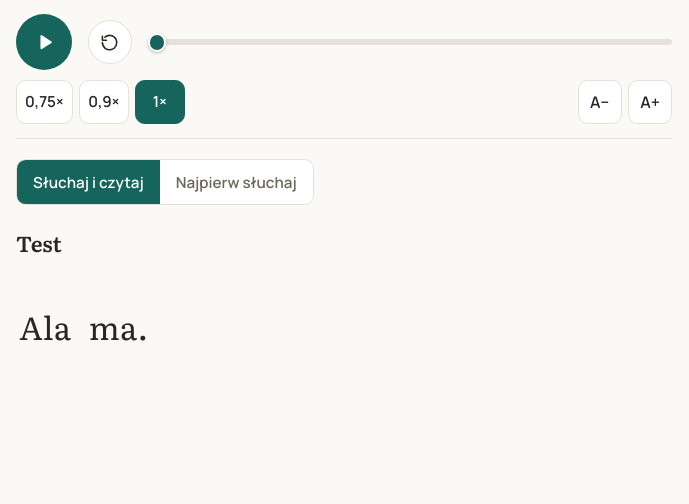
Test: Player › re-covers the text when switching back to listen-first
The width and height of the screenshot is (689, 504).
What coordinates should you click on to do the following:
click the button "Najpierw słuchaj"
I would click on:
 (236, 182)
Its box is x1=160 y1=160 x2=313 y2=204.
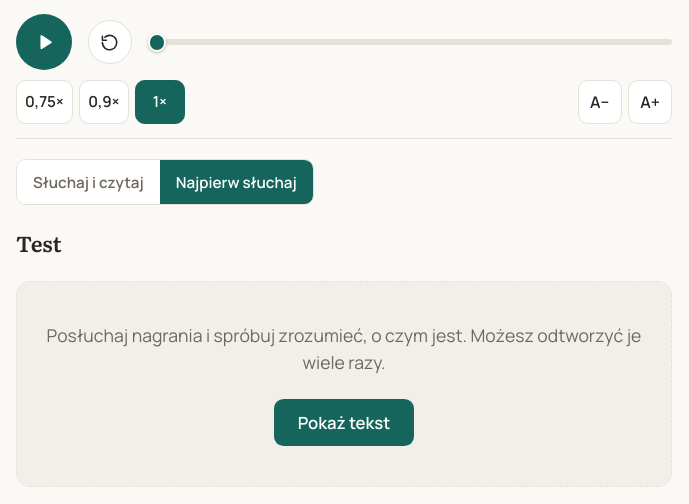
What coordinates should you click on to do the following:
click the button "Pokaż tekst"
I would click on:
 (344, 423)
Its box is x1=274 y1=399 x2=414 y2=446.
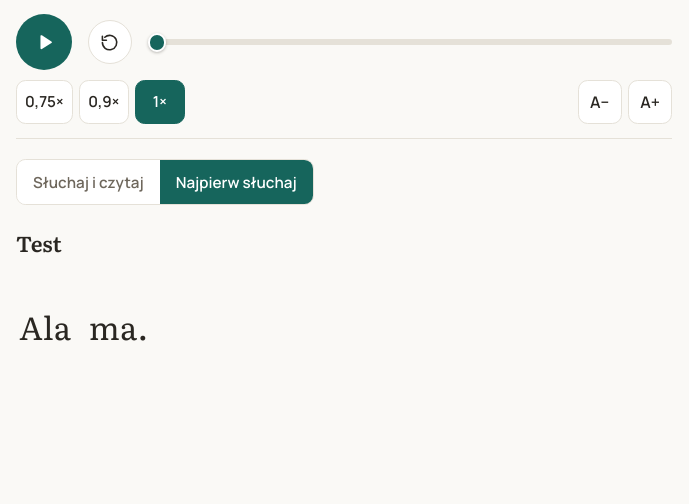
What coordinates should you click on to do the following:
click the button "Słuchaj i czytaj"
I would click on:
 (88, 182)
Its box is x1=17 y1=160 x2=160 y2=204.
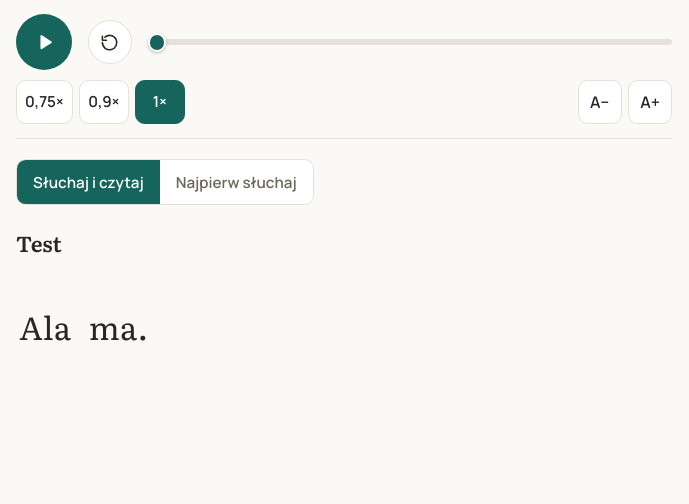
What coordinates should you click on to do the following:
click the button "Najpierw słuchaj"
I would click on:
 (236, 182)
Its box is x1=160 y1=160 x2=313 y2=204.
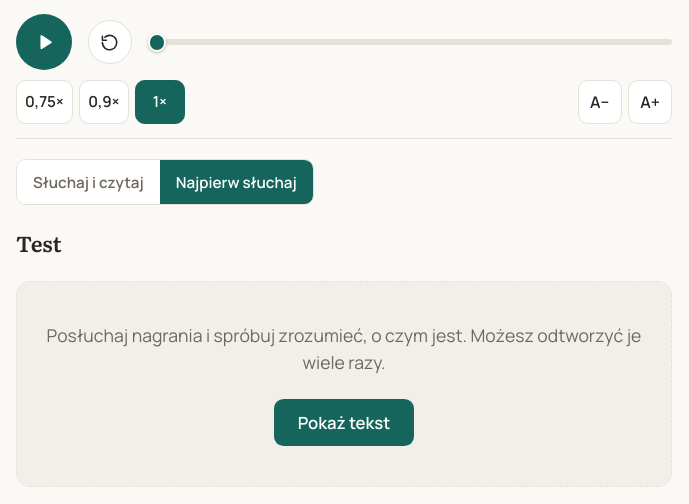
Now no elements with test id "word" are shown
